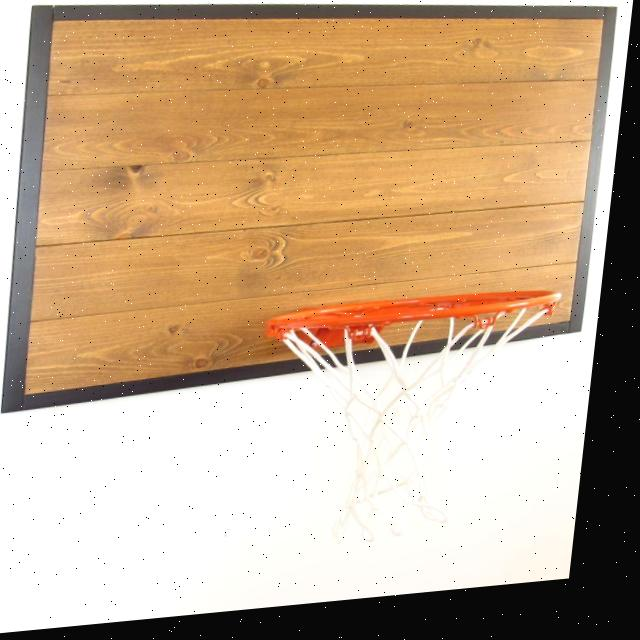hoop: (246, 275, 576, 547)
